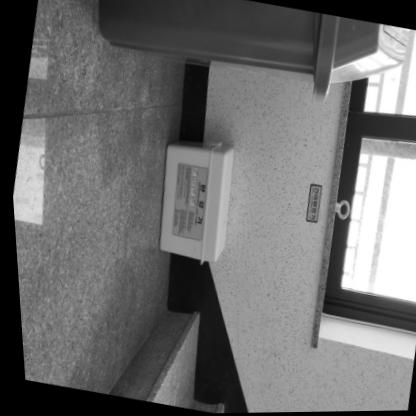DDL: (140, 133, 240, 270)
